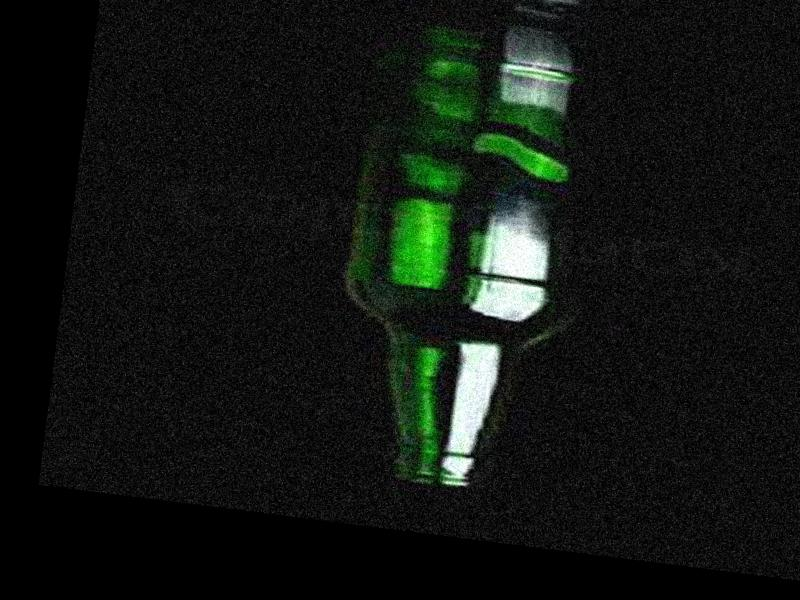Beer: (318, 44, 576, 494)
